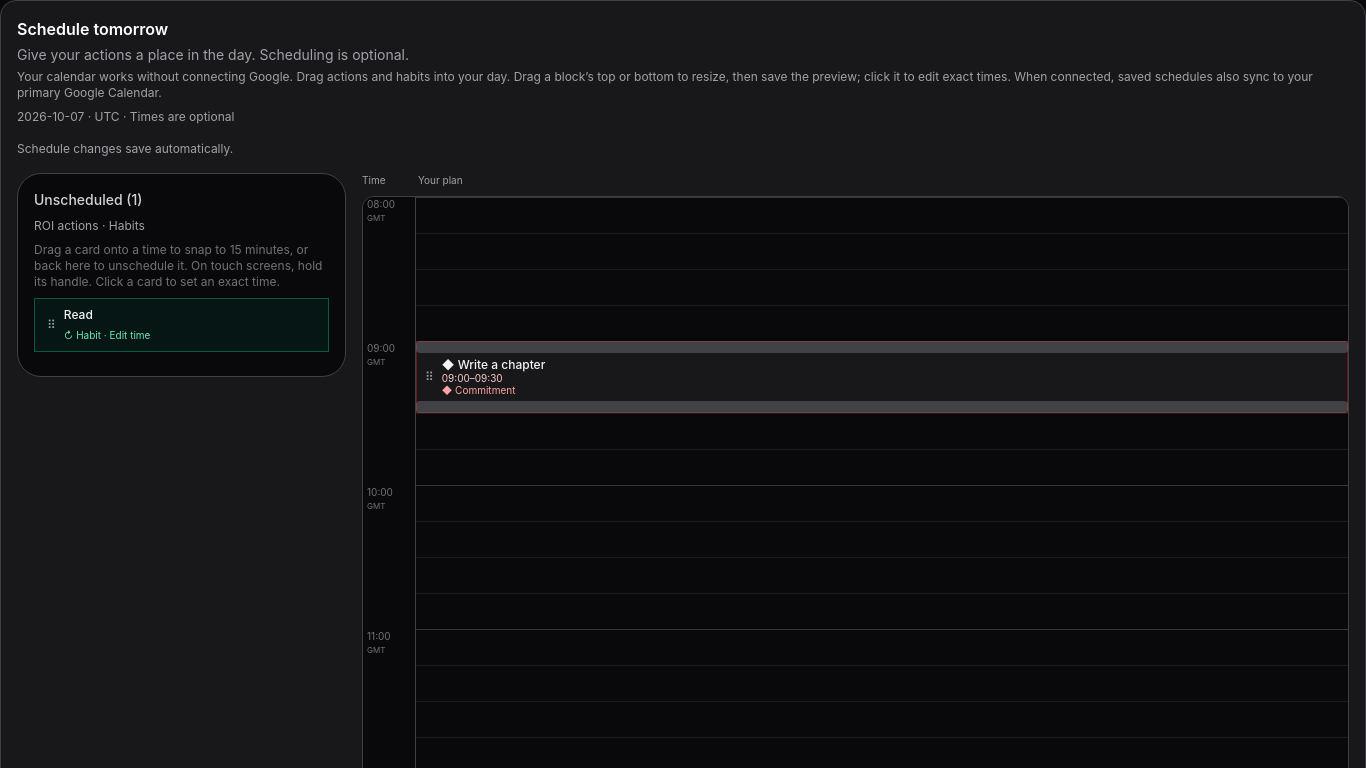
TomorrowScheduler UI › previews and saves snapped end resize with a minimum duration
(page scrolled)
Press the mouse on the button named "Resize end of Write a chapter; press Enter to edit time" at [882, 407], box [416, 401, 1348, 413]
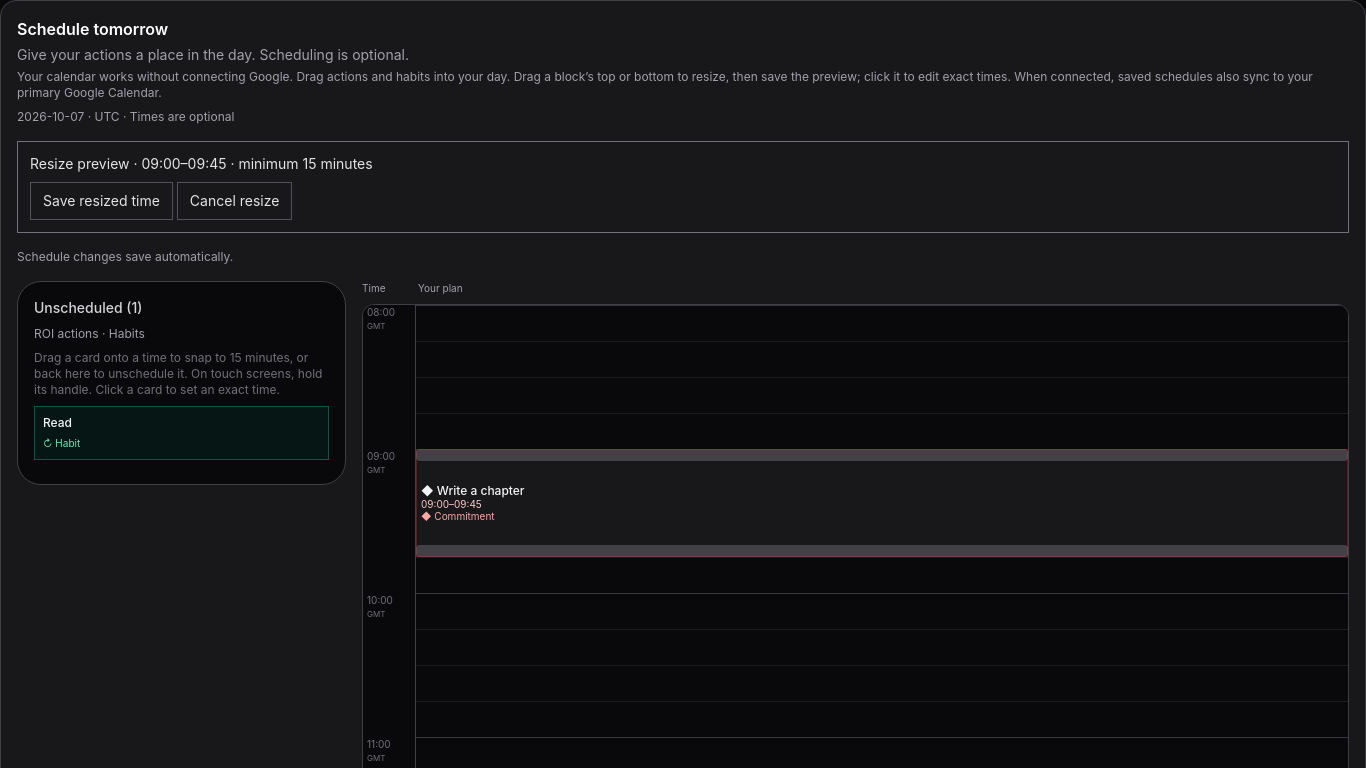
Check: the button "Save resized time" is shown
Click the button "Save resized time".
click(101, 201)  # box [30, 182, 173, 220]
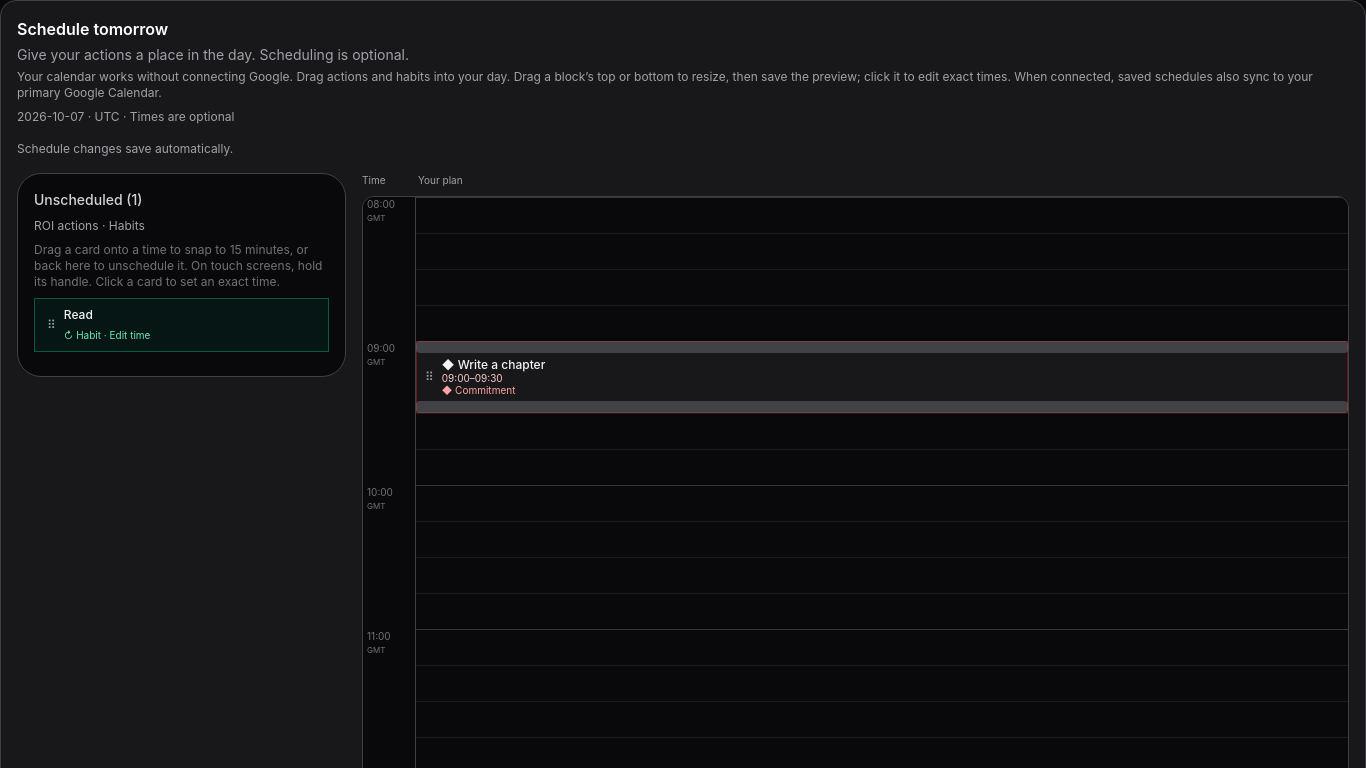
Check: the text "Resize preview" is gone
